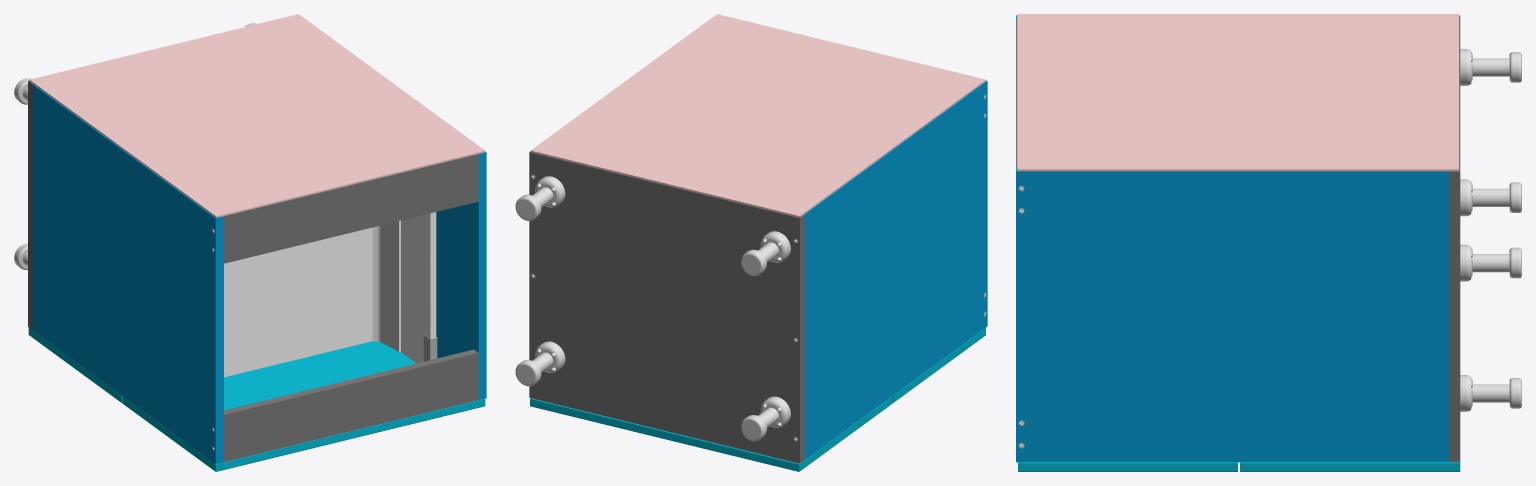
File: PERSP.glb
3 views of the same model, side by side, from view 1: azimuth 30°, elevation 25°; view 2: azimuth 150°, elevation 25°; view 3: azimuth 270°, elevation 25° (orthographic). The views are drawn at different scales.
Visible parts, largest first — view 1: *MODEL_SPACE, BLUM_378M5002SA, BLUM_Z37R467D, BLUM_ZRG_437RSIC_L; view 2: *MODEL_SPACE, Virtuvne Kojele (×4); view 3: *MODEL_SPACE, Virtuvne Kojele (×4).
Boxes of the visible parts, x1,y1,x2,y2 form: *MODEL_SPACE: (28, 14, 486, 471); BLUM_378M5002SA: (372, 220, 400, 351); BLUM_Z37R467D: (401, 215, 424, 363); BLUM_ZRG_437RSIC_L: (423, 212, 437, 361); *MODEL_SPACE: (529, 14, 987, 471); Virtuvne Kojele (×4): (515, 176, 790, 441); *MODEL_SPACE: (1016, 14, 1460, 471); Virtuvne Kojele (×4): (1460, 49, 1521, 411).
Bounding box in the file's own units: 0.6 × 0.542 × 0.82.
